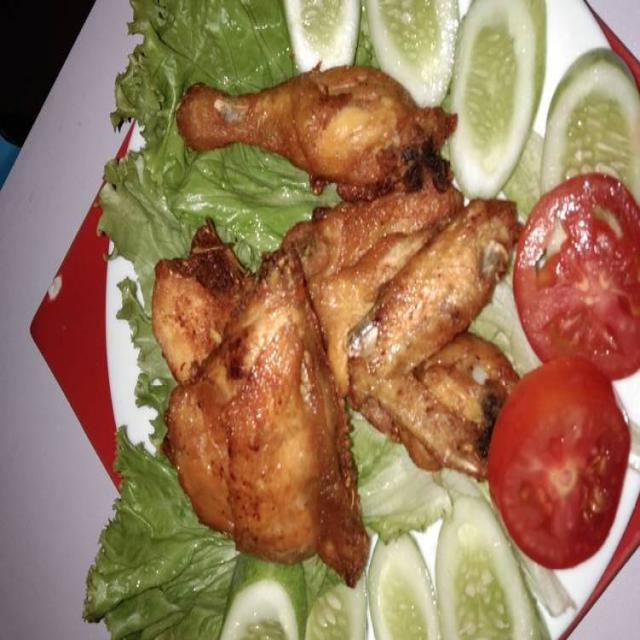Frango: (150, 232, 372, 587), (290, 190, 510, 480), (178, 61, 448, 194)
